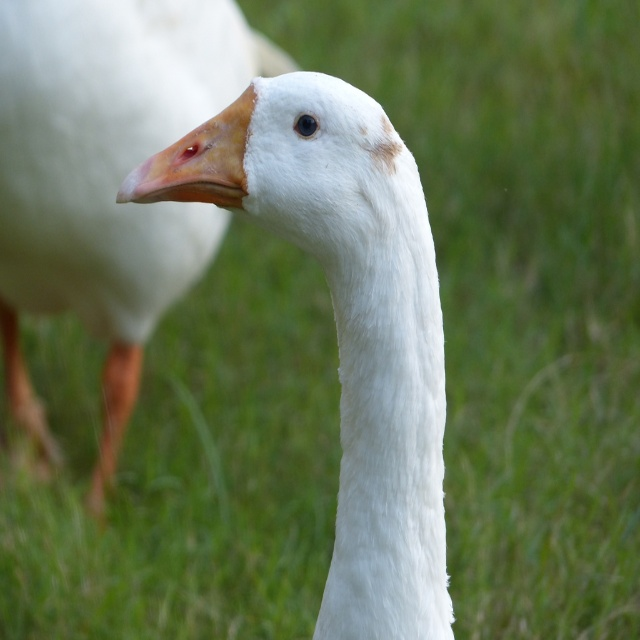Duck: (108, 47, 468, 640)
